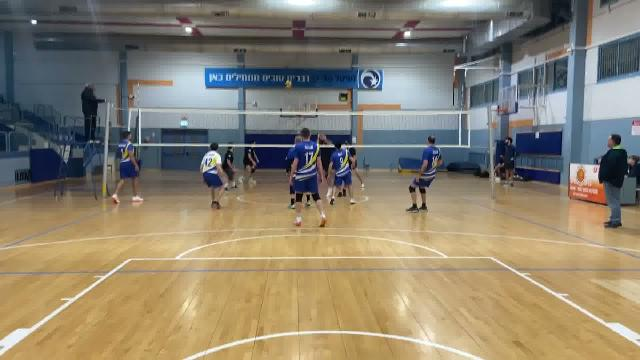ball: (283, 80, 295, 90)
